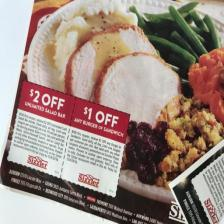paper: (10, 10, 224, 224)
